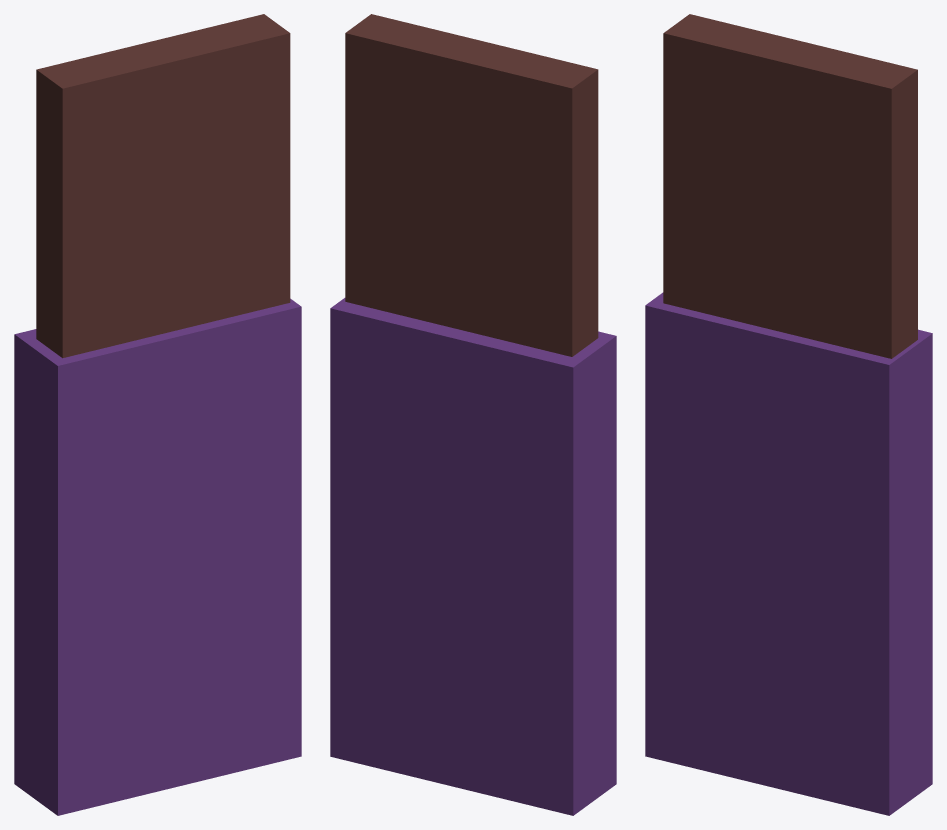
Rendered from Chocolate.fbx.
3 renders of one model, left to right at view 1: azimuth 30°, elevation 25°; view 2: azimuth 150°, elevation 25°; view 3: azimuth 330°, elevation 25°, orthographic.
Visible parts, largest first — view 1: Cube; view 2: Cube; view 3: Cube.
Boxes of the visible parts, x1,y1,x2,y2 form: Cube: (14,14,301,815); Cube: (330,14,616,815); Cube: (645,14,932,815).
Size of the model in its own units: 0.0839 by 0.2369 by 0.0259.
